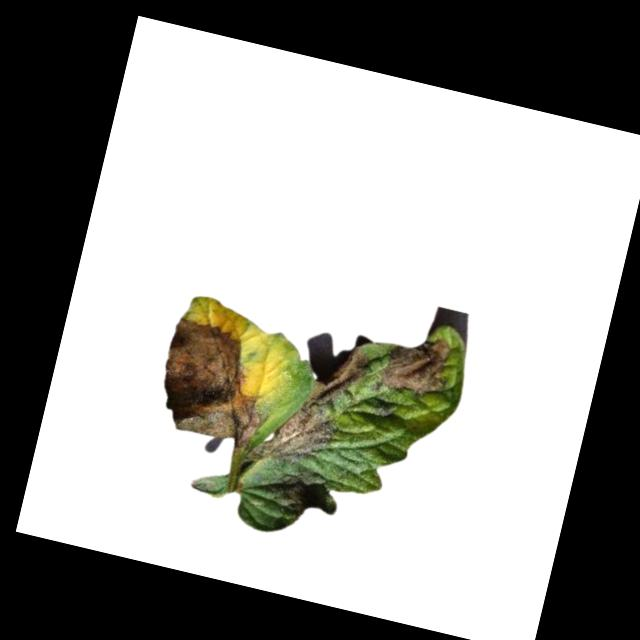Late_blight: (245, 328, 373, 485), (147, 313, 285, 453), (372, 324, 456, 402), (270, 465, 329, 517)
